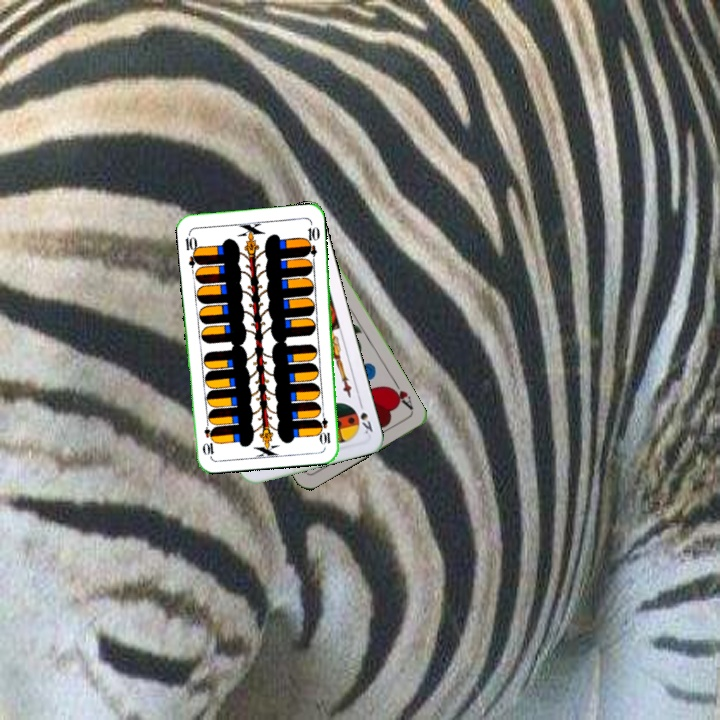E10: (181, 229, 202, 269), (316, 407, 333, 446)
HA: (385, 376, 416, 413)
SK: (355, 397, 375, 436)
